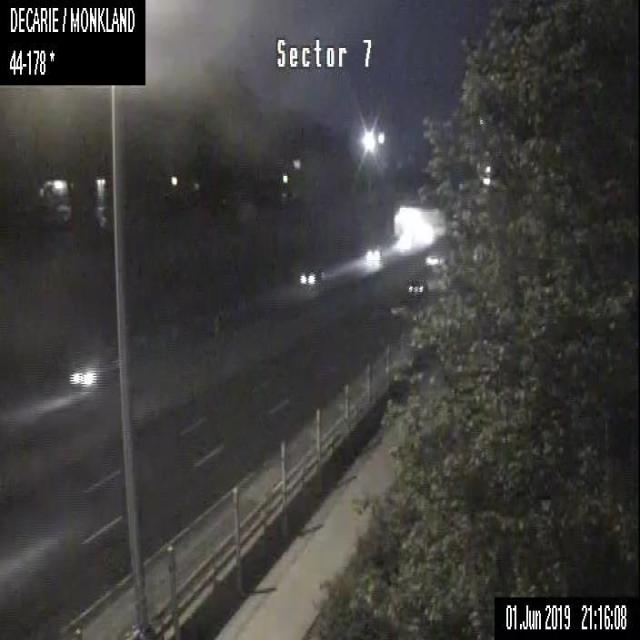vehicle: (69, 350, 117, 390), (297, 264, 324, 287), (406, 279, 426, 300), (362, 244, 383, 263)
